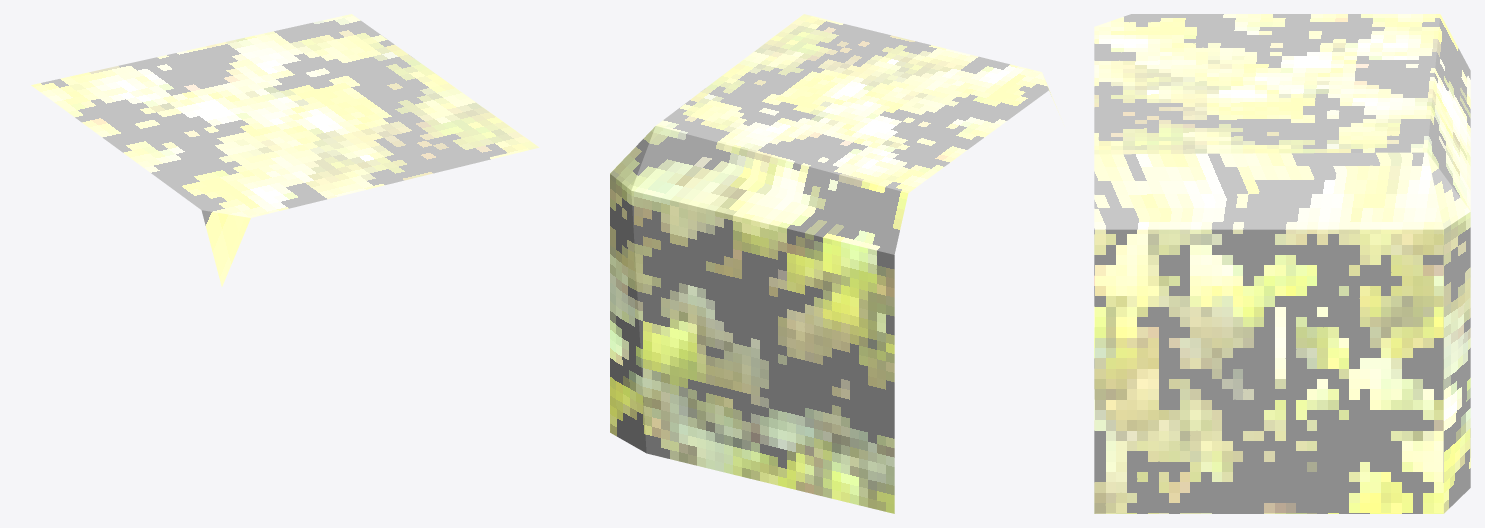
File: bushcorner.glb
3 renders of one model, left to right at view 1: azimuth 30°, elevation 25°; view 2: azimuth 150°, elevation 25°; view 3: azimuth 270°, elevation 25°, orthographic. The views are drawn at different scales.
Parts seen in each view (by area): view 1: BushCorner; view 2: BushCorner; view 3: BushCorner.
Part boxes in pixels (x1,y1,x2,y2): BushCorner: (31, 14, 539, 286); BushCorner: (610, 14, 1061, 513); BushCorner: (1094, 14, 1470, 513).
Bounding box in the file's own units: 2 × 2 × 2.
